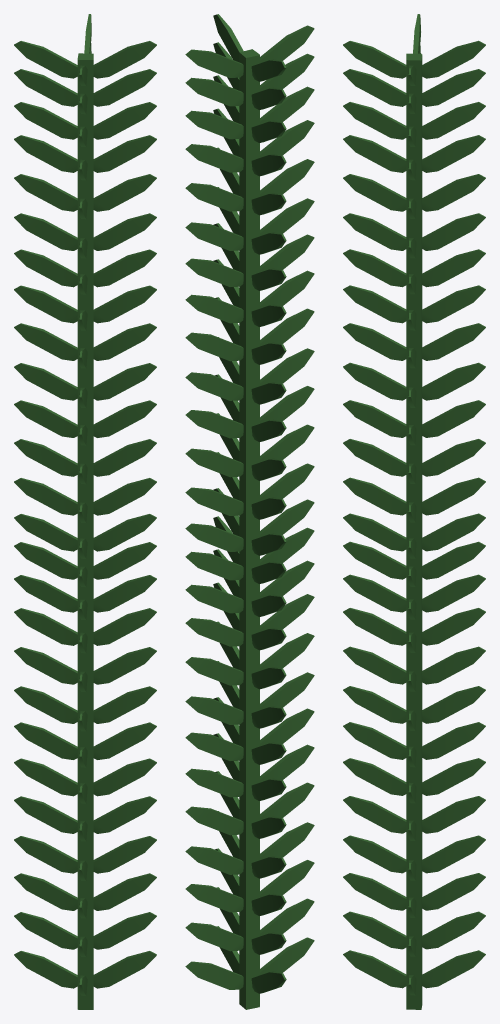
Rendered from SM_KelpPlaceHolder2_L.fbx.
3 renders of one model, left to right at view 1: azimuth 90°, elevation 25°; view 2: azimuth 210°, elevation 25°; view 3: azimuth 270°, elevation 25°, orthographic.
Visible parts, largest first — view 1: kelp4; view 2: kelp4; view 3: kelp4.
Boxes of the visible parts, x1,y1,x2,y2 form: kelp4: (14, 14, 156, 1009); kelp4: (185, 14, 314, 1009); kelp4: (343, 14, 485, 1009).
Size of the model in its own units: 135 by 1006 by 135.
